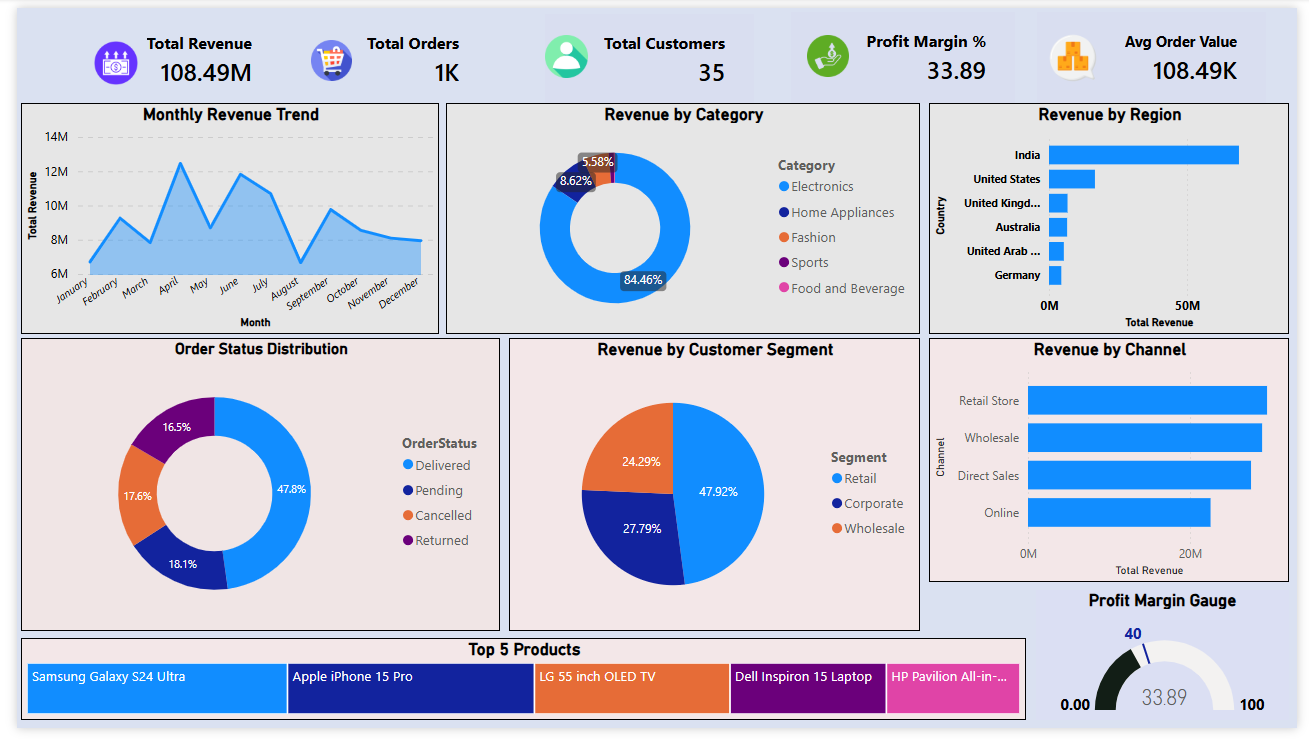

Layout of this report page (visuals, bound fields, positions):
{"tool":"powerbi","page":{"name":"Sales Performance Intelligence Hub","canvas":[1280,720],"ordinal":0},"visuals":[{"type":"cardVisual","fields":{"Data":["Customers.Total Revenue"]},"box":[4.1,6.1,259.5,90.9],"z":0},{"type":"cardVisual","fields":{"Data":["Customers.Total Orders"]},"box":[255.4,6.1,215.5,90.9],"z":1000},{"type":"cardVisual","fields":{"Data":["Customers.Total Customers"]},"box":[528.1,6.1,208.4,90.9],"z":2000},{"type":"cardVisual","fields":{"Data":["Customers.Profit Margin %"]},"box":[774.3,4.1,223.7,90.9],"z":3000},{"type":"cardVisual","fields":{"Data":["Customers.Avg Order Value"]},"box":[1019.5,4.1,229.8,90.9],"z":4000},{"type":"lineChart","title":"Monthly Revenue Trend","fields":{"Category":["Orders.OrderDate.Variation.Date Hierarchy.Month"],"Y":["Customers.Total Revenue"]},"box":[4.1,95,417.8,230.9],"z":5000},{"type":"donutChart","title":" Revenue by Category","fields":{"Category":["Products.Category"],"Y":["Customers.Total Revenue"]},"box":[429.1,95,474,230.9],"z":6000},{"type":"treemap","title":"Top 5 Products","fields":{"Group":["Products.ProductName"],"Values":["Customers.Total Revenue"]},"box":[4.1,630.3,1005.2,81.7],"z":7000},{"type":"pieChart","title":"Revenue by Customer Segment","fields":{"Category":["Customers.Segment"],"Y":["Customers.Total Revenue"]},"box":[492.4,330,410.7,293.2],"z":8000},{"type":"clusteredBarChart","title":"Revenue by Channel","fields":{"Category":["Orders.Channel"],"Y":["Customers.Total Revenue"]},"box":[912.3,329.7,359.9,244.1],"z":9000},{"type":"clusteredBarChart","title":"Revenue by Region","fields":{"Category":["Regions.Country"],"Y":["Customers.Total Revenue"]},"box":[912.2,95,359.6,230.9],"z":10000},{"type":"donutChart","title":"Order Status Distribution","fields":{"Category":["Orders.OrderStatus"],"Y":["Customers.Total Orders"]},"box":[4.1,330,479.1,293.2],"z":11000},{"type":"gauge","title":"Profit Margin Gauge","fields":{"Y":["Customers.Profit Margin %"],"MaxValue":["Customers.Max Value"],"TargetValue":["Customers.Target Value"]},"box":[1019.3,581.6,252.9,130.3],"z":12000},{"type":"image","box":[76.6,25.5,43.9,57.2],"z":13000},{"type":"image","box":[294.2,25.5,40.9,53.1],"z":14000},{"type":"image","box":[528.1,22.5,42.9,51.1],"z":15000},{"type":"image","box":[789.7,21.5,41.9,52.1],"z":16000},{"type":"image","box":[1028.7,21.5,54.1,57.2],"z":17000}]}

Visuals, with their boxes in screenshot pixels (x1, y1, x2, y2), scaled from the page's 1280x720 canvas onto the 1309x739 screenshot:
cardVisual - Customers.Total Revenue: {"x1": 4, "y1": 6, "x2": 270, "y2": 100}
cardVisual - Customers.Total Orders: {"x1": 261, "y1": 6, "x2": 482, "y2": 100}
cardVisual - Customers.Total Customers: {"x1": 540, "y1": 6, "x2": 753, "y2": 100}
cardVisual - Customers.Profit Margin %: {"x1": 792, "y1": 4, "x2": 1021, "y2": 98}
cardVisual - Customers.Avg Order Value: {"x1": 1043, "y1": 4, "x2": 1278, "y2": 98}
"Monthly Revenue Trend" lineChart: {"x1": 4, "y1": 98, "x2": 431, "y2": 335}
" Revenue by Category" donutChart: {"x1": 439, "y1": 98, "x2": 924, "y2": 335}
"Top 5 Products" treemap: {"x1": 4, "y1": 647, "x2": 1032, "y2": 731}
"Revenue by Customer Segment" pieChart: {"x1": 504, "y1": 339, "x2": 924, "y2": 640}
"Revenue by Channel" clusteredBarChart: {"x1": 933, "y1": 338, "x2": 1301, "y2": 589}
"Revenue by Region" clusteredBarChart: {"x1": 933, "y1": 98, "x2": 1301, "y2": 335}
"Order Status Distribution" donutChart: {"x1": 4, "y1": 339, "x2": 494, "y2": 640}
"Profit Margin Gauge" gauge: {"x1": 1042, "y1": 597, "x2": 1301, "y2": 731}
image: {"x1": 78, "y1": 26, "x2": 123, "y2": 85}
image: {"x1": 301, "y1": 26, "x2": 343, "y2": 81}
image: {"x1": 540, "y1": 23, "x2": 584, "y2": 76}
image: {"x1": 808, "y1": 22, "x2": 850, "y2": 76}
image: {"x1": 1052, "y1": 22, "x2": 1107, "y2": 81}
